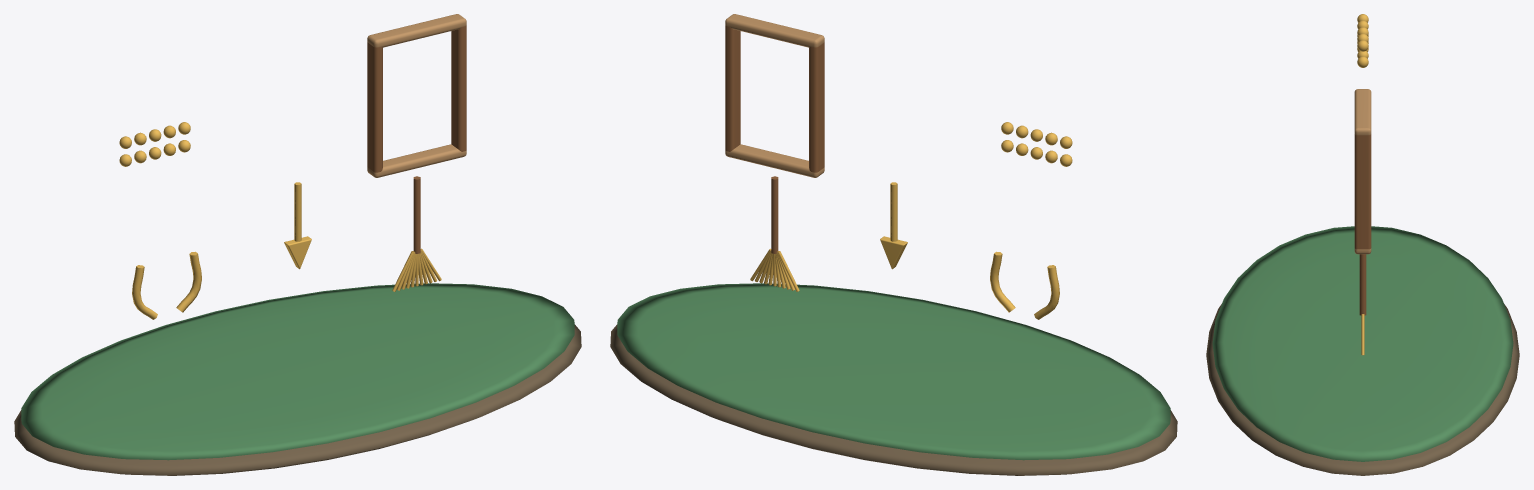
The model's file is complete-second-horns-south.glb.
The picture shows the model from 3 angles, left to right: view 1: azimuth 30°, elevation 25°; view 2: azimuth 150°, elevation 25°; view 3: azimuth 270°, elevation 25°; orthographic projection. The views are drawn at different scales.
Visible parts, largest first — view 1: complete-second-horns-south_surface_01, complete-second-horns-south_surface_00, complete-second-horns-south_surface_02, complete-second-horns-south_surface_03, complete-second-horns-south_surface_04; view 2: complete-second-horns-south_surface_01, complete-second-horns-south_surface_00, complete-second-horns-south_surface_02, complete-second-horns-south_surface_03, complete-second-horns-south_surface_04; view 3: complete-second-horns-south_surface_01, complete-second-horns-south_surface_00, complete-second-horns-south_surface_03, complete-second-horns-south_surface_04, complete-second-horns-south_surface_02.
Part boxes in pixels (box(x1,y1,x2,y2)): complete-second-horns-south_surface_01: box(21, 283, 574, 460); complete-second-horns-south_surface_00: box(14, 324, 581, 475); complete-second-horns-south_surface_02: box(119, 122, 441, 319); complete-second-horns-south_surface_03: box(367, 25, 466, 253); complete-second-horns-south_surface_04: box(367, 14, 466, 177); complete-second-horns-south_surface_01: box(617, 283, 1170, 460); complete-second-horns-south_surface_00: box(610, 324, 1177, 475); complete-second-horns-south_surface_02: box(750, 122, 1072, 319); complete-second-horns-south_surface_03: box(725, 25, 824, 253); complete-second-horns-south_surface_04: box(725, 14, 824, 177); complete-second-horns-south_surface_01: box(1212, 226, 1513, 461); complete-second-horns-south_surface_00: box(1206, 304, 1519, 475); complete-second-horns-south_surface_03: box(1354, 134, 1371, 315); complete-second-horns-south_surface_04: box(1354, 89, 1371, 254); complete-second-horns-south_surface_02: box(1357, 14, 1368, 355).
Bounding box in the file's own units: 4.56 × 2.76 × 2.5.
